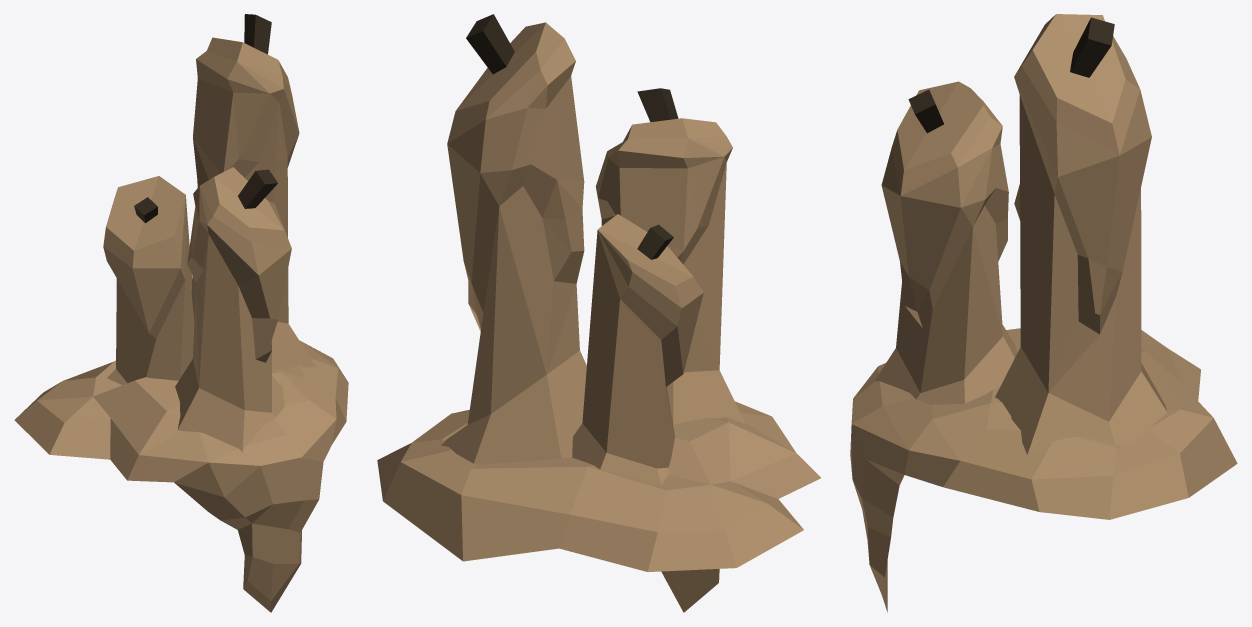
The model's file is SM_Prop_Candle_04.fbx.
3 renders of one model, left to right at view 1: azimuth 30°, elevation 25°; view 2: azimuth 150°, elevation 25°; view 3: azimuth 270°, elevation 25°, orthographic. The views are drawn at different scales.
Parts seen in each view (by area): view 1: SM_Prop_Candle_04; view 2: SM_Prop_Candle_04; view 3: SM_Prop_Candle_04.
Part boxes in pixels (left/top/right/bottom): SM_Prop_Candle_04: left=14, top=14, right=348, bottom=612; SM_Prop_Candle_04: left=377, top=14, right=820, bottom=612; SM_Prop_Candle_04: left=850, top=14, right=1237, bottom=612.
Size of the model in its own units: 22.55 by 36.01 by 19.88.
